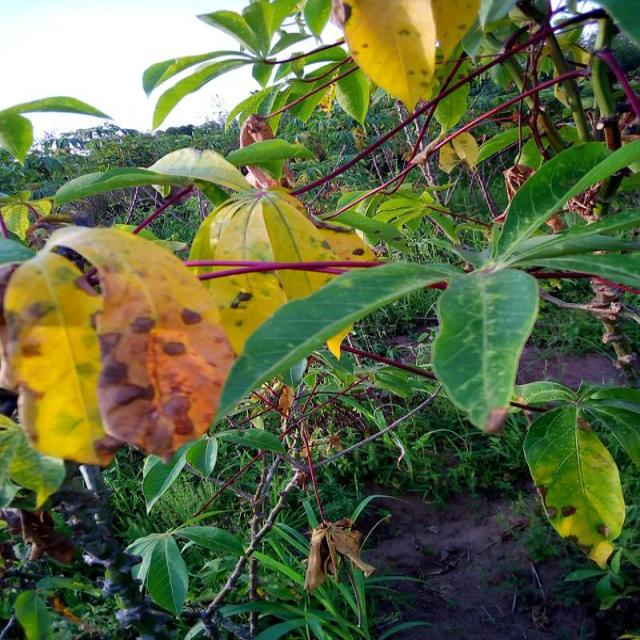cassava leaf: (430, 266, 540, 432), (522, 401, 626, 569)
